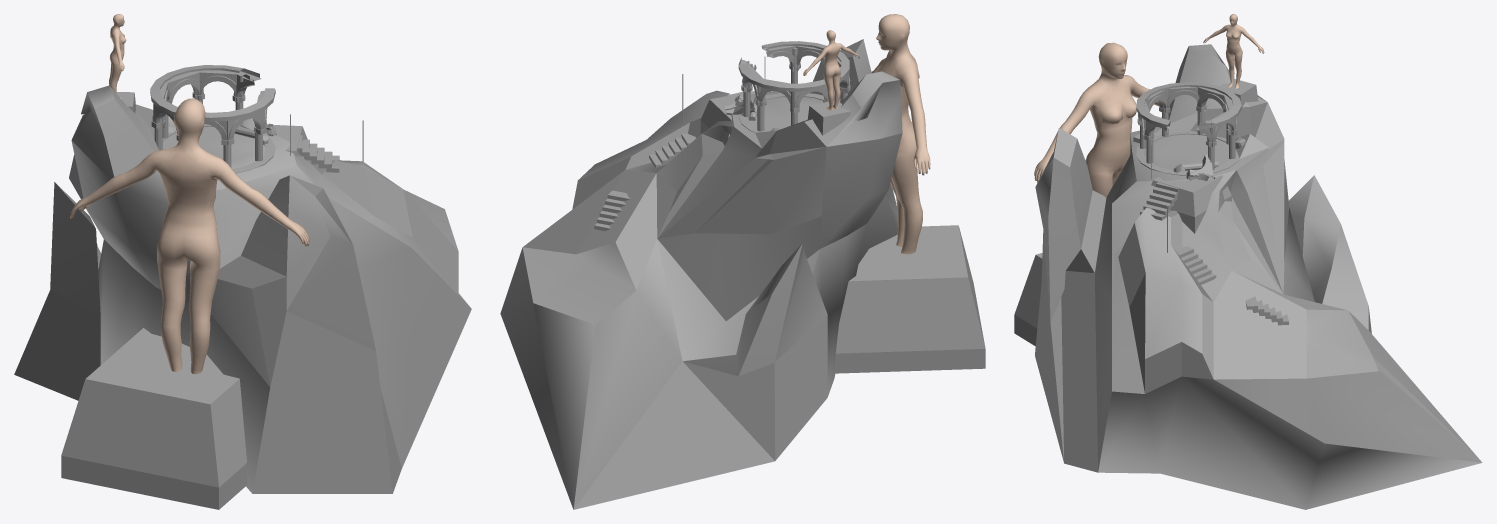
The model's file is Environment_UmbralShrine_Mockup.fbx.
The picture shows the model from 3 angles, left to right: view 1: azimuth 30°, elevation 25°; view 2: azimuth 150°, elevation 25°; view 3: azimuth 270°, elevation 25°; orthographic projection. The views are drawn at different scales.
Parts seen in each view (by area): view 1: pCube1, pCube11, woman, polySurface6, pTorus7 (×2), CharacterFemale:woman, pTorus6, pCube10; view 2: pCube1, pCube11, woman, polySurface6, CharacterFemale:woman, pCube9, pCube10; view 3: pCube1, woman, pCube10, polySurface6, pCube11, CharacterFemale:woman, pTorus2, pCube9.
Part boxes in pixels (box(x1,y1,x2,y2)): pCube1: box(14, 85, 471, 493); pCube11: box(61, 328, 247, 509); woman: box(70, 98, 309, 374); polySurface6: box(150, 65, 275, 132); pTorus7 (×2): box(167, 70, 242, 103); CharacterFemale:woman: box(109, 14, 126, 98); pTorus6: box(227, 108, 266, 145); pCube10: box(274, 125, 307, 156); pCube1: box(500, 39, 902, 509); pCube11: box(834, 225, 985, 373); woman: box(871, 14, 930, 254); polySurface6: box(738, 41, 849, 92); CharacterFemale:woman: box(803, 30, 859, 110); pCube9: box(807, 100, 850, 135); pCube10: box(700, 91, 755, 145); pCube1: box(1035, 44, 1482, 509); woman: box(1034, 42, 1159, 197); pCube10: box(1151, 175, 1231, 233); polySurface6: box(1136, 82, 1241, 146); pCube11: box(1014, 253, 1042, 346); CharacterFemale:woman: box(1203, 14, 1264, 88); pTorus2: box(1136, 130, 1239, 175); pCube9: box(1220, 78, 1258, 107).
Size of the model in its own units: 4436 by 4549 by 4943.
